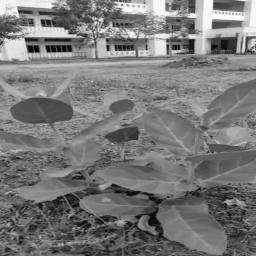Calotropis: (164, 198, 225, 250), (100, 166, 195, 191), (152, 108, 196, 155), (202, 104, 247, 147), (16, 97, 74, 124), (200, 156, 255, 184), (4, 79, 71, 99), (94, 195, 160, 215), (72, 136, 103, 170), (89, 122, 139, 141), (42, 170, 90, 188), (6, 133, 52, 151), (101, 93, 132, 115), (122, 148, 168, 162), (21, 186, 58, 201), (225, 90, 255, 102), (240, 78, 256, 90)
